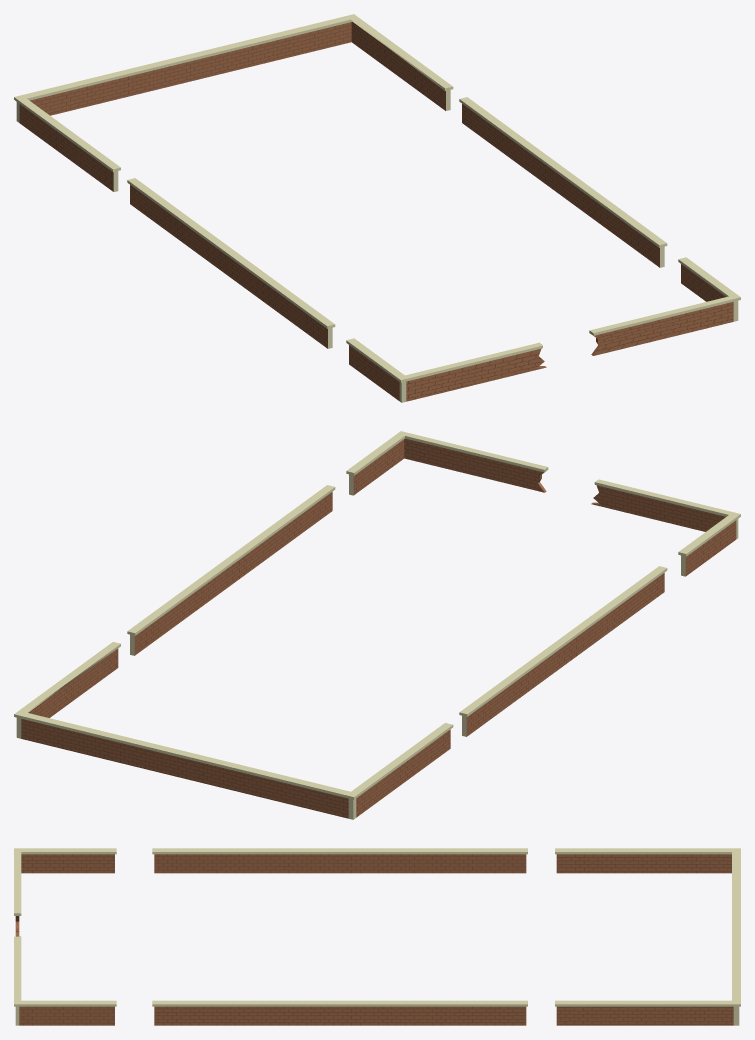
The model's file is Broken_fence.obj.
The picture shows the model from 3 angles, top to bottom: view 1: azimuth 30°, elevation 25°; view 2: azimuth 150°, elevation 25°; view 3: azimuth 270°, elevation 25°; orthographic projection. The views are drawn at different scales.
Visible parts, largest first — view 1: initialShadingGroup pCube1; view 2: initialShadingGroup pCube1; view 3: initialShadingGroup pCube1.
Boxes of the visible parts, x1=… form: initialShadingGroup pCube1: x1=14, y1=14, x2=740, y2=402; initialShadingGroup pCube1: x1=14, y1=431, x2=740, y2=819; initialShadingGroup pCube1: x1=14, y1=848, x2=740, y2=1025.
Bounding box in the file's own units: 202 × 13.5 × 398.
1 material, 1 textured.
